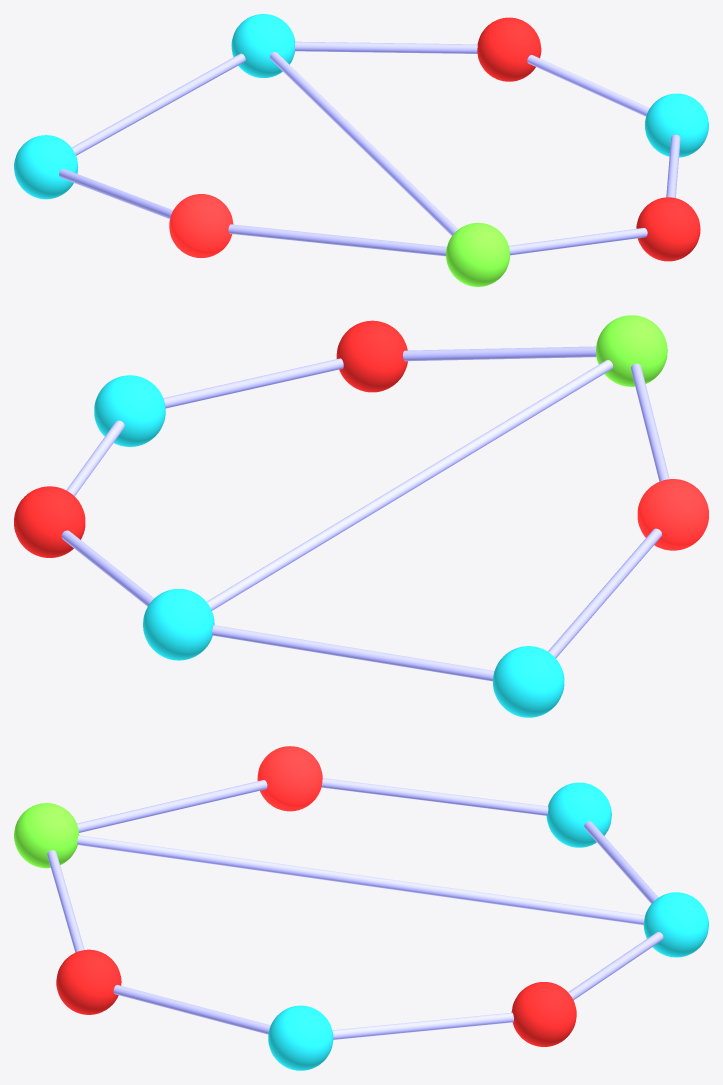
File: asset.gltf
The picture shows the model from 3 angles, top to bottom: view 1: azimuth 30°, elevation 25°; view 2: azimuth 150°, elevation 25°; view 3: azimuth 270°, elevation 25°; orthographic projection. The views are drawn at different scales.
Visible parts, largest first — view 1: GraphGroup; view 2: GraphGroup; view 3: GraphGroup.
Part boxes in pixels (x1,y1,x2,y2): GraphGroup: (14,14,708,286); GraphGroup: (14,315,708,717); GraphGroup: (14,746,708,1070).
Size of the model in its own units: 19.75 by 4.15 by 21.3.
